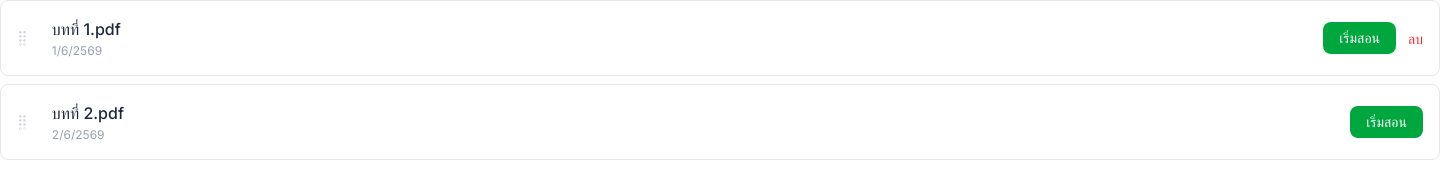
it: FileList › enters edit mode when filename is clicked
Click the text "บทที่ 1.pdf". click: point(86, 29)
box: [52, 19, 121, 39]
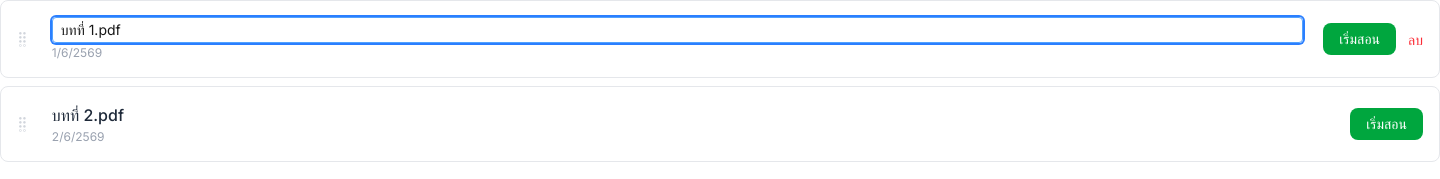
Check: the field showing "บทที่ 1.pdf" is shown, box [52, 17, 1303, 43]
